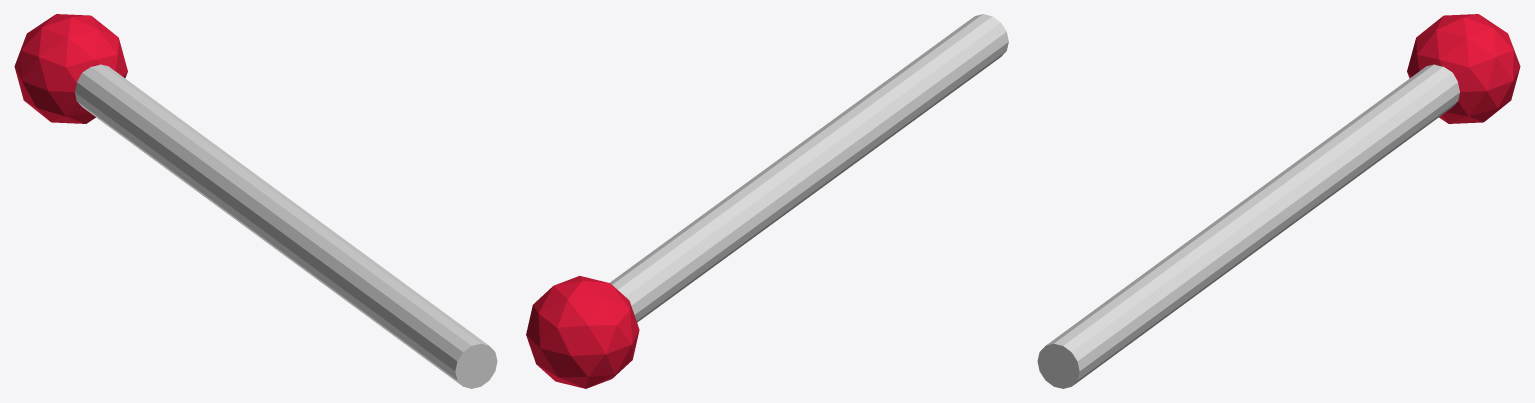
File: stick.fbx
3 renders of one model, left to right at view 1: azimuth 30°, elevation 25°; view 2: azimuth 150°, elevation 25°; view 3: azimuth 330°, elevation 25°, orthographic.
Parts seen in each view (by area): view 1: Cylinder; view 2: Cylinder; view 3: Cylinder.
Boxes of the visible parts, x1,y1,x2,y2 form: Cylinder: (14,14,497,388); Cylinder: (526,14,1008,388); Cylinder: (1037,14,1520,388).
Bounding box in the file's own units: 204 × 204 × 1544.
